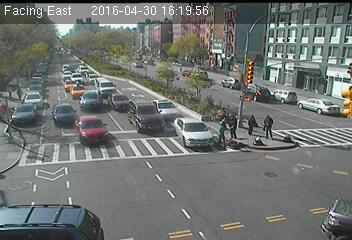neg: (142, 105, 162, 133), (50, 102, 67, 125), (88, 113, 103, 134), (86, 87, 100, 106), (281, 52, 293, 67), (295, 80, 306, 95), (68, 82, 79, 97), (199, 26, 209, 39), (55, 58, 64, 71), (86, 49, 95, 61), (63, 34, 72, 46), (168, 28, 177, 40), (303, 26, 311, 37), (286, 31, 294, 41), (115, 94, 122, 104), (321, 28, 328, 37), (108, 70, 115, 78)
pos: (258, 112, 280, 141), (224, 112, 245, 140), (213, 119, 233, 146), (246, 112, 260, 130)
